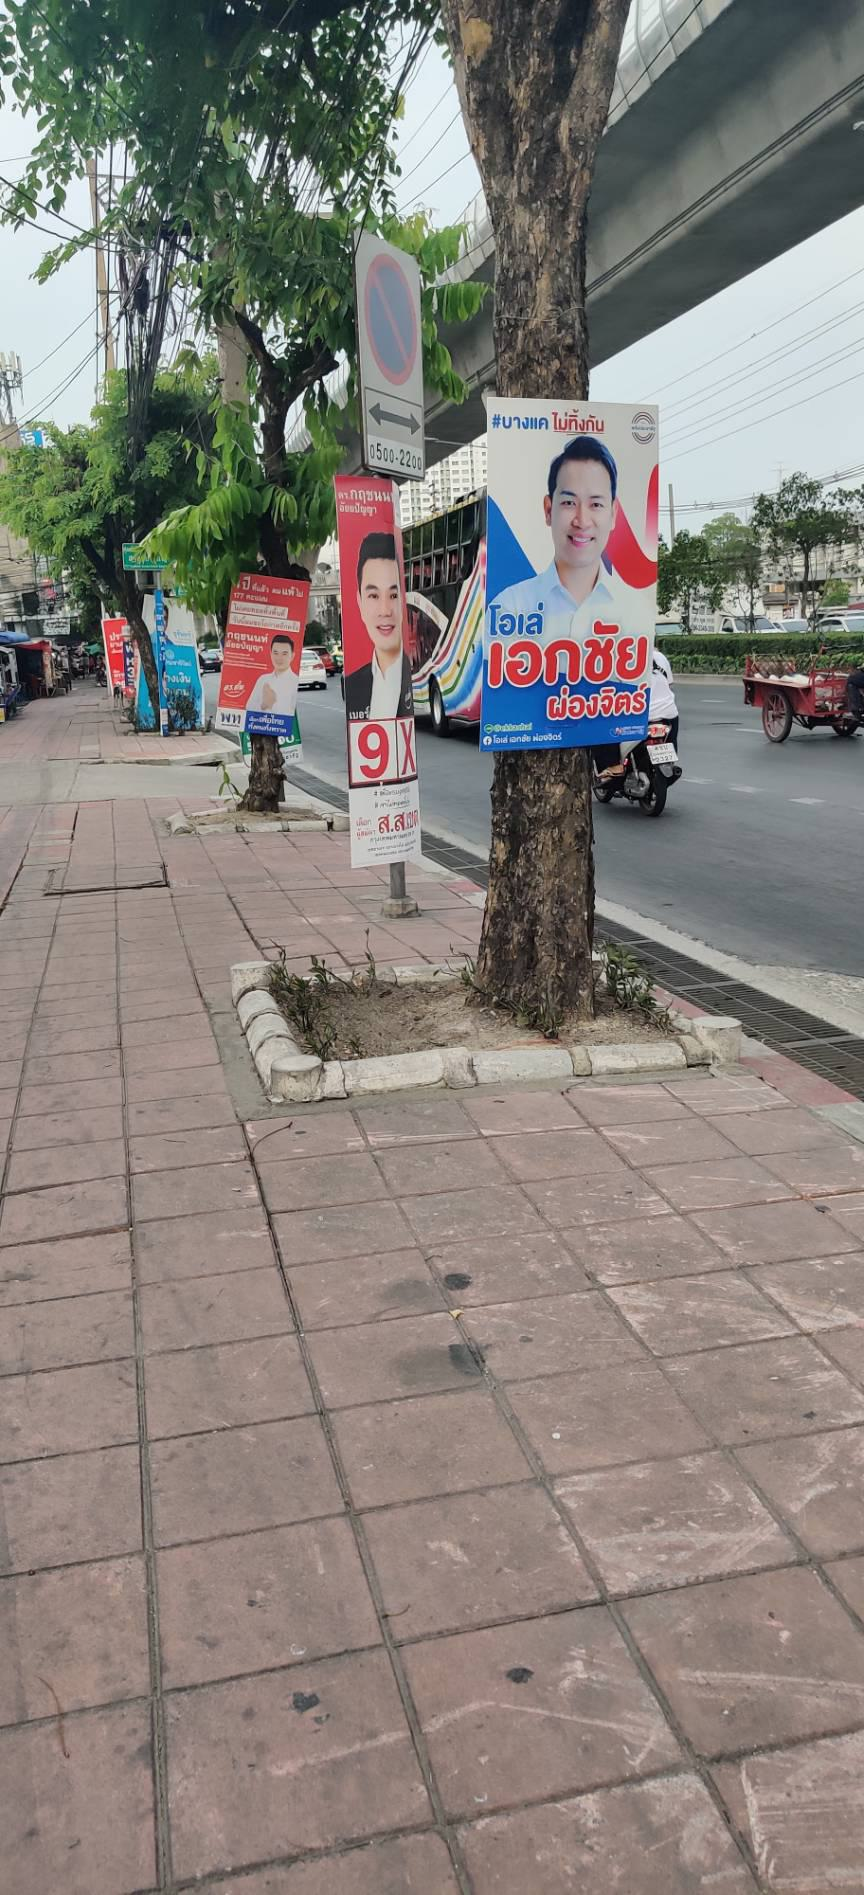Banner: (486, 402, 660, 752), (317, 468, 430, 873), (224, 573, 311, 757)
